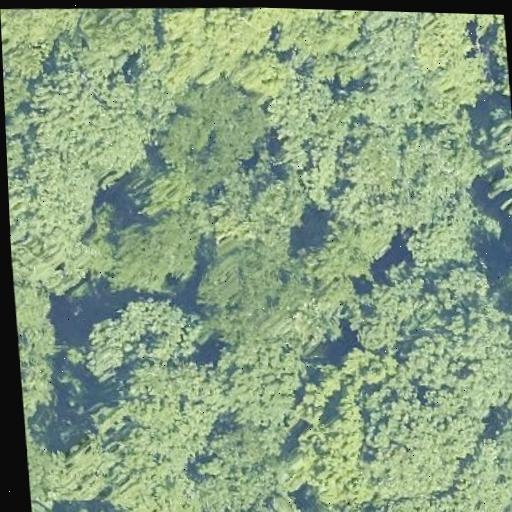tree-top: (333, 117, 481, 244), (395, 270, 512, 418), (25, 58, 152, 169), (353, 397, 475, 501), (7, 155, 105, 279), (196, 238, 310, 342), (182, 413, 298, 512), (286, 369, 369, 505), (95, 420, 214, 512), (163, 76, 268, 177), (151, 5, 282, 83), (200, 160, 308, 251), (96, 209, 197, 297), (266, 72, 359, 164), (212, 352, 298, 446), (346, 260, 431, 354), (13, 273, 68, 414), (354, 10, 427, 110), (260, 8, 374, 63), (0, 7, 65, 98), (68, 309, 140, 386), (416, 12, 488, 78), (400, 220, 479, 278), (0, 6, 77, 65), (473, 94, 512, 210), (77, 6, 162, 59), (479, 14, 510, 100), (493, 414, 512, 495), (499, 241, 512, 333), (37, 501, 124, 512), (495, 493, 512, 512)
